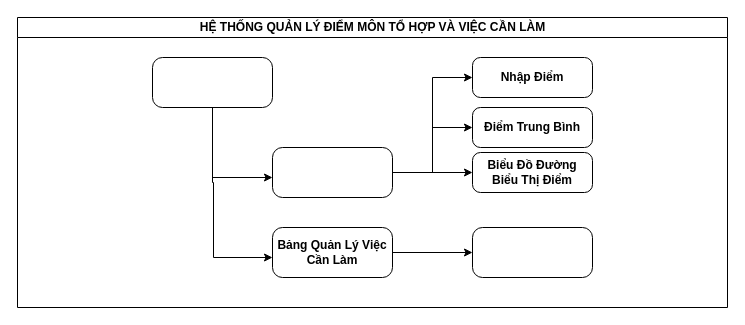
Some shapes in this 745 by 325 pixel diagram are drawn without their labels. Here are the shapes that lost their labels. From the top down, the centre of each, then its label:
(x=212, y=82): GradeMaster
(x=332, y=172): Điểm Môn Tổ Hợp
(x=532, y=252): Bảng Việc Cần Làm Được Người Dùng Thêm
